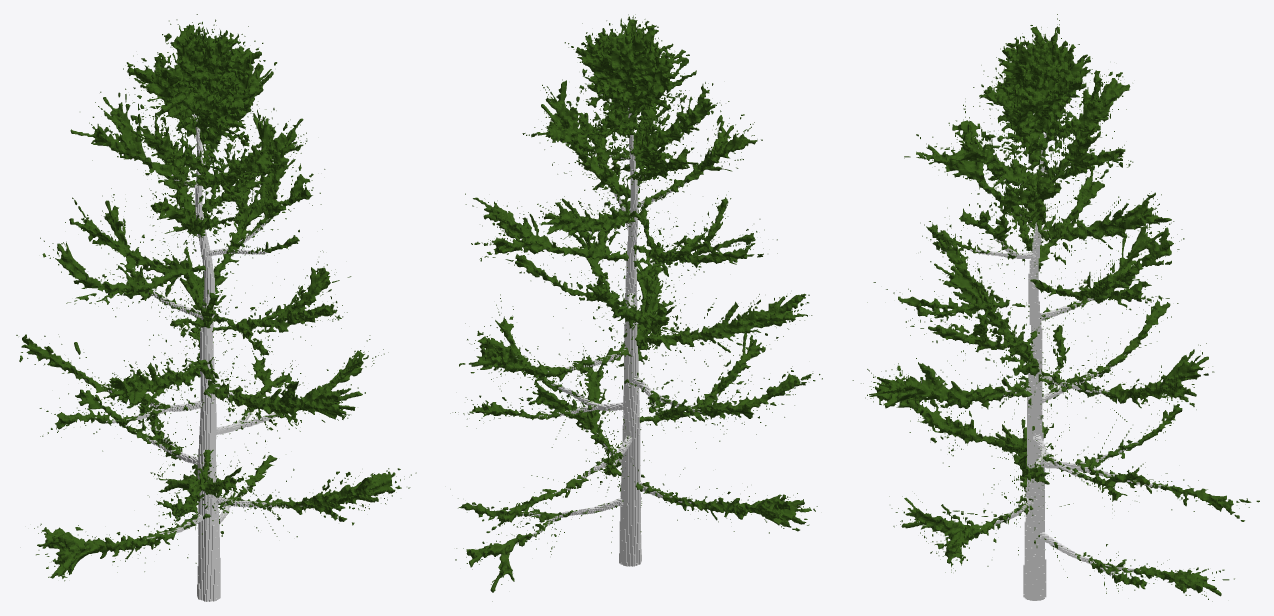
File: Taller fat tree low resolution.fbx
3 renders of one model, left to right at view 1: azimuth 30°, elevation 25°; view 2: azimuth 150°, elevation 25°; view 3: azimuth 270°, elevation 25°, orthographic. The views are drawn at different scales.
Parts seen in each view (by area): view 1: leaves.001, tree.001; view 2: leaves.001, tree.001; view 3: leaves.001, tree.001.
Part boxes in pixels (left/top/right/bottom): leaves.001: left=16, top=14, right=416, bottom=581; tree.001: left=84, top=113, right=307, bottom=601; leaves.001: left=450, top=14, right=822, bottom=601; tree.001: left=516, top=107, right=701, bottom=566; leaves.001: left=852, top=14, right=1259, bottom=601; tree.001: left=968, top=133, right=1168, bottom=600.
Size of the model in its own units: 2589 by 3994 by 2603.
